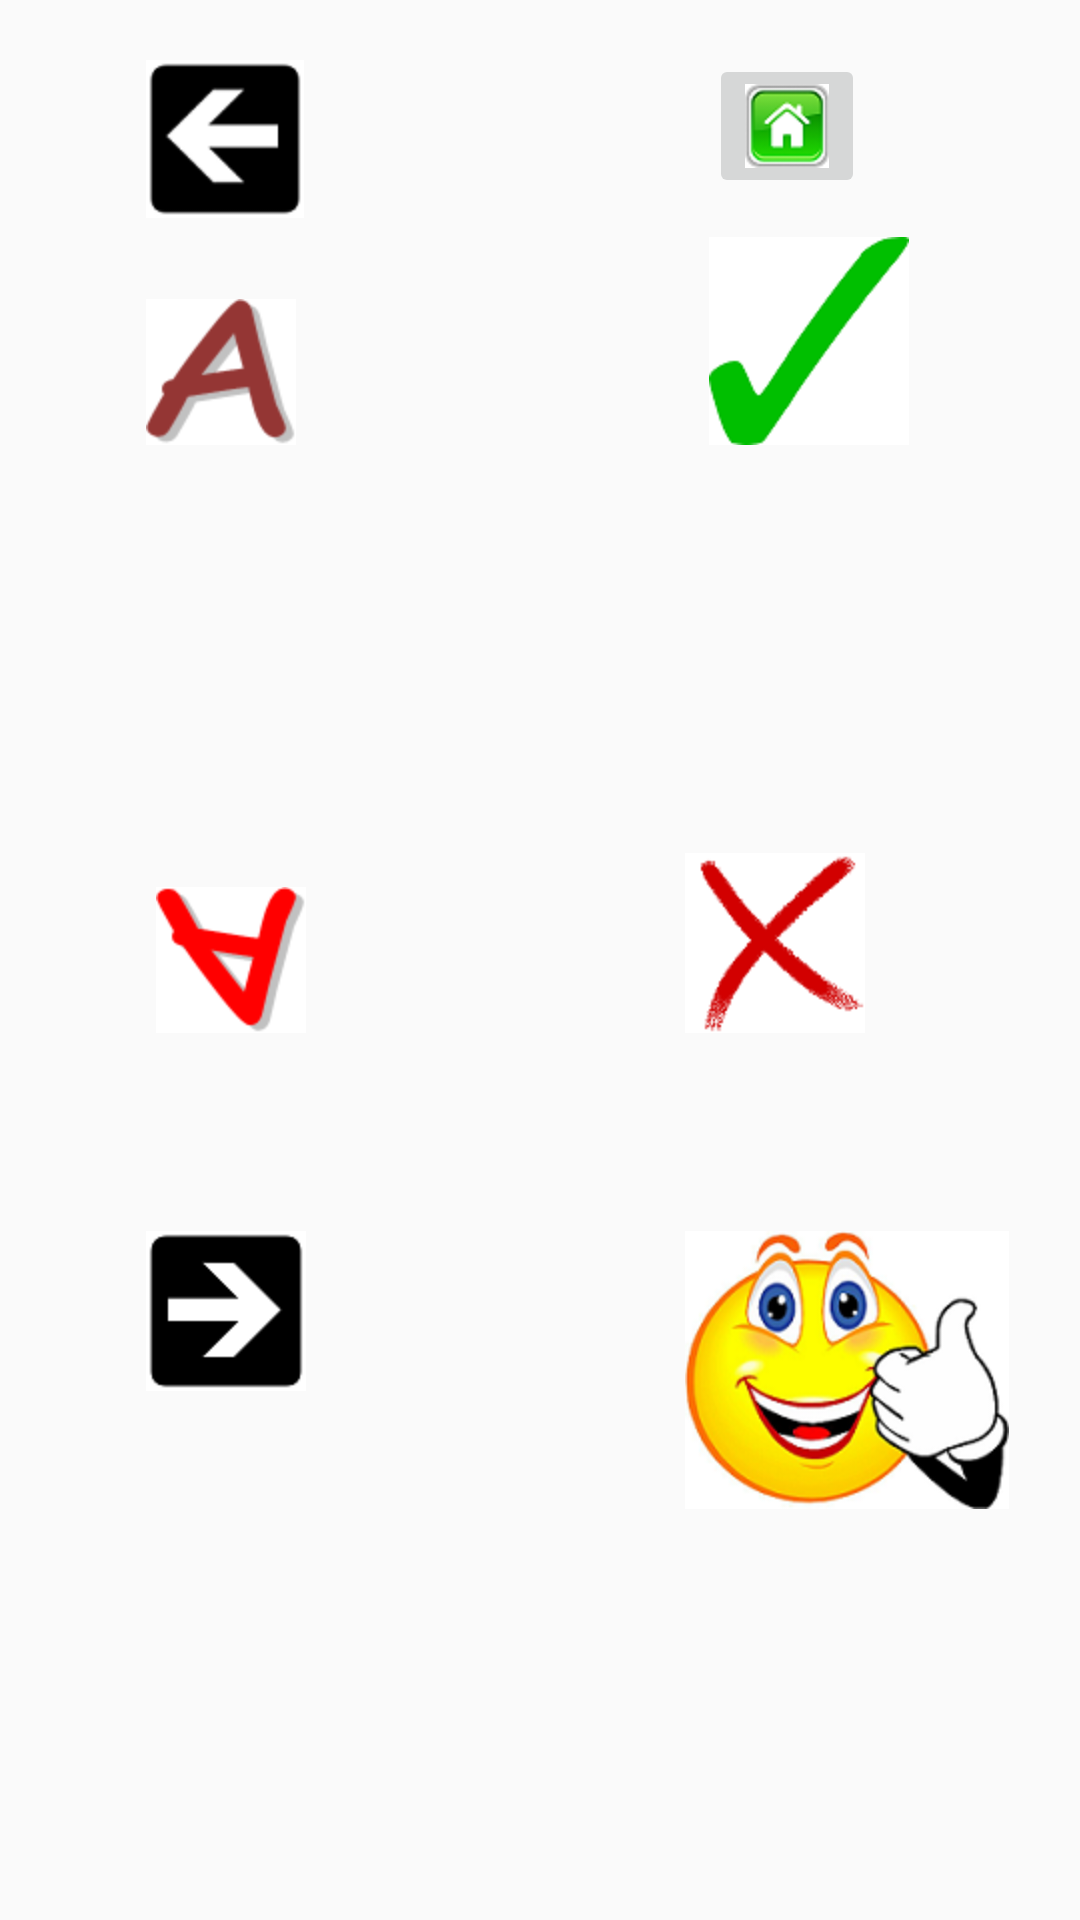

Where icons sit on this 1080x1920 app screen, as BBox(x1, y1, x2, y2):
backward arrow: BBox(149, 63, 301, 215)
correct: BBox(709, 237, 909, 445)
forward arrow: BBox(149, 1234, 303, 1388)
home: BBox(721, 72, 853, 180)
welldone: BBox(685, 1232, 1009, 1509)
wrong: BBox(700, 856, 863, 1031)
